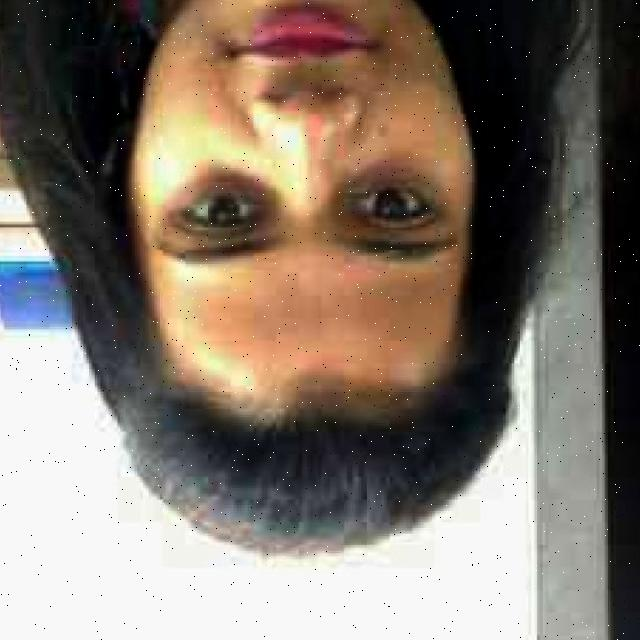puffy_eyes: (336, 160, 426, 195), (181, 173, 275, 203)
